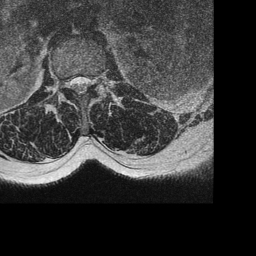CCS_normal: (76, 66, 83, 102)
LFS_normal: (90, 66, 98, 94)
LLS_normal: (83, 67, 90, 97)
RFS_normal: (62, 69, 69, 95)
RLS_normal: (69, 70, 76, 97)
